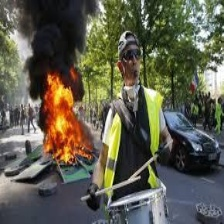fire: (34, 65, 97, 163)
smoke: (1, 1, 104, 91)
